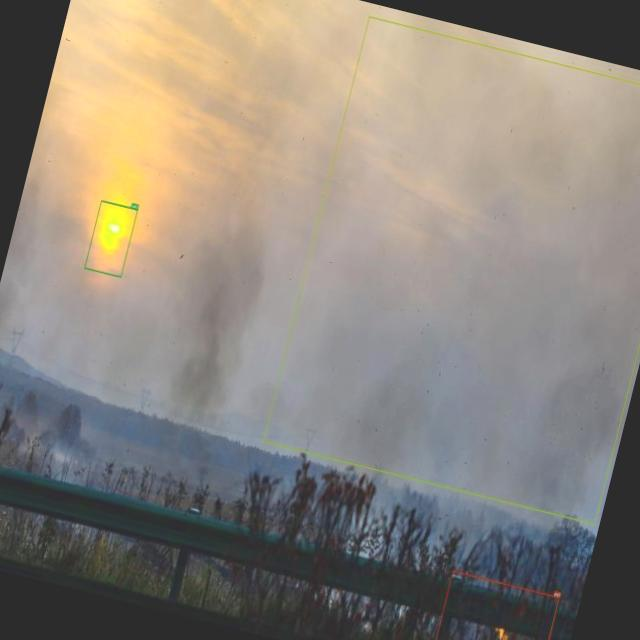fire: (426, 570, 559, 640)
smoke: (263, 15, 640, 524)
